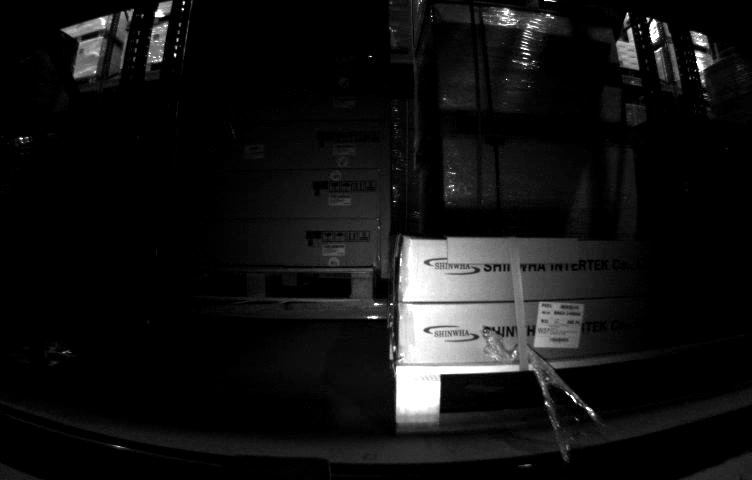True Barcode: (534, 299, 584, 350)
